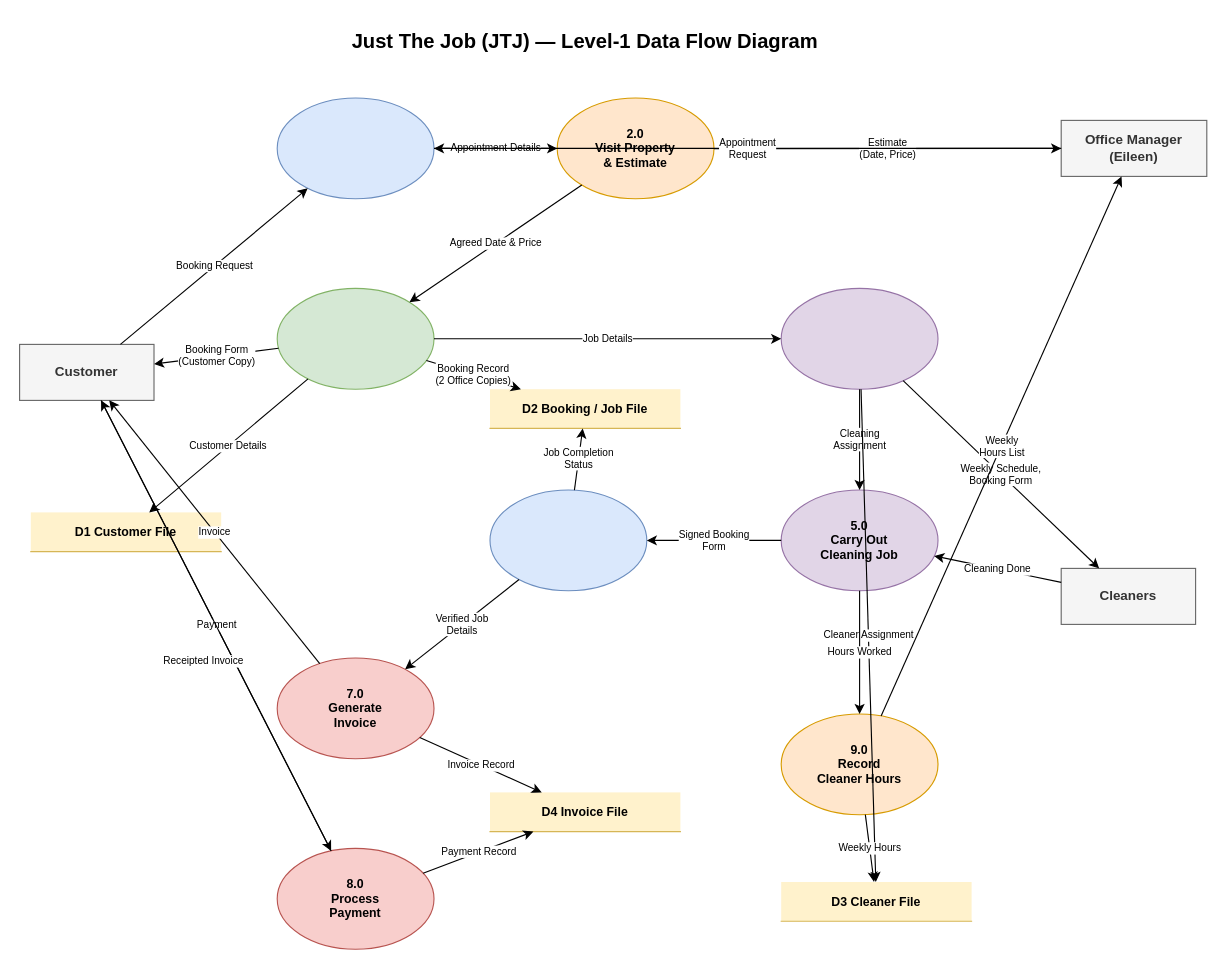
Some shapes in this 1226 by 969 pixel diagram are drawn without their labels. The centre of each missing label's shape, as x and y in pixels:
"1.0 Book Appointment" belongs at (355,148).
"3.0 Create Booking" belongs at (355,338).
"4.0 Schedule Cleaners" belongs at (859,338).
"6.0 Process Job Completion" belongs at (568,540).
